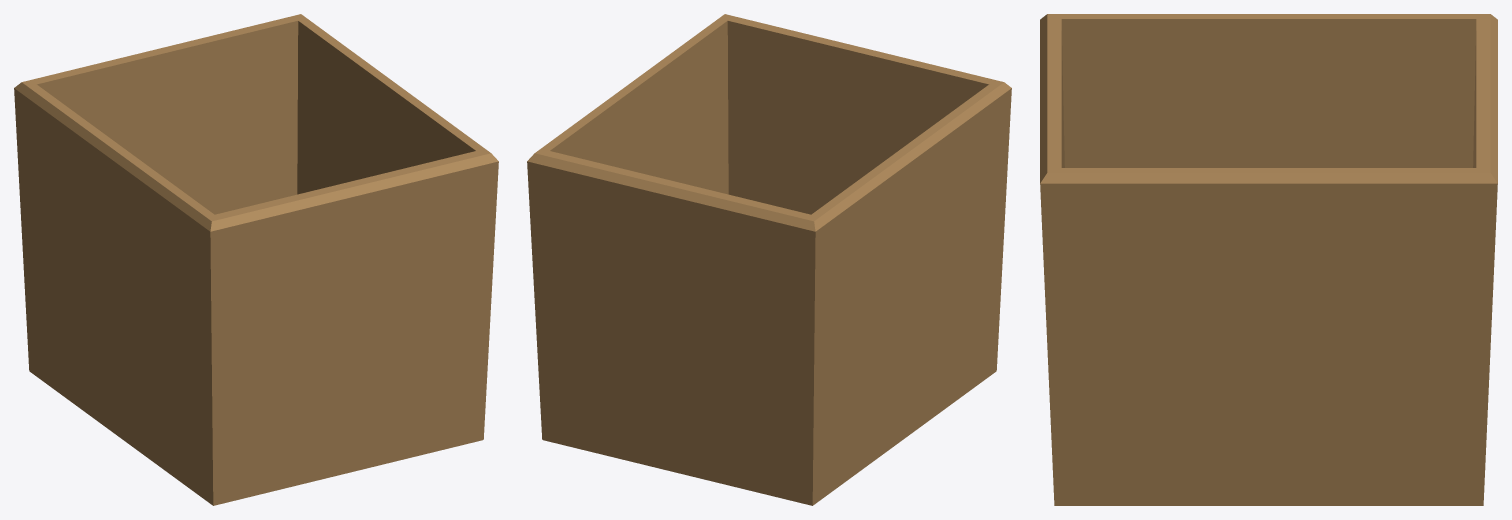
File: shelf_basket_2.fbx
3 renders of one model, left to right at view 1: azimuth 30°, elevation 25°; view 2: azimuth 150°, elevation 25°; view 3: azimuth 270°, elevation 25°, orthographic. The views are drawn at different scales.
Visible parts, largest first — view 1: shelf_basket_2; view 2: shelf_basket_2; view 3: shelf_basket_2.
Part boxes in pixels (x1=…): shelf_basket_2: x1=14, y1=14, x2=498, y2=505; shelf_basket_2: x1=527, y1=14, x2=1011, y2=505; shelf_basket_2: x1=1040, y1=14, x2=1497, y2=505.
Bounding box in the file's own units: 0.215 × 0.205 × 0.2534.
